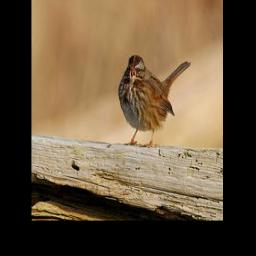Sparrow: (119, 54, 193, 147)
